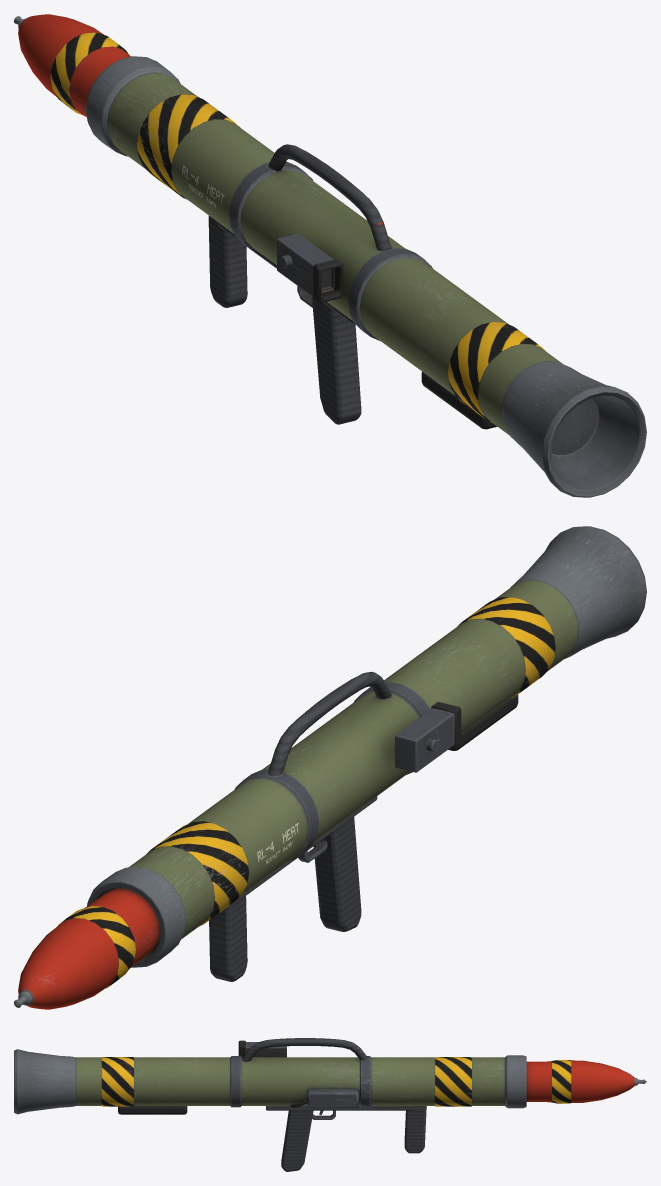
File: launcher.glb
The picture shows the model from 3 angles, top to bottom: view 1: azimuth 30°, elevation 25°; view 2: azimuth 150°, elevation 25°; view 3: azimuth 270°, elevation 25°; orthographic projection. The views are drawn at different scales.
Parts seen in each view (by area): view 1: launcher, warhead; view 2: launcher, warhead; view 3: launcher, warhead.
Boxes of the visible parts, bbox=[...] form: launcher: bbox=[86, 56, 646, 497]; warhead: bbox=[14, 14, 130, 116]; launcher: bbox=[87, 526, 646, 981]; warhead: bbox=[14, 888, 160, 1009]; launcher: bbox=[14, 1038, 526, 1171]; warhead: bbox=[526, 1060, 646, 1103].
Size of the model in its own units: 0.174 by 0.3128 by 1.37.
9 materials, 9 textured.
